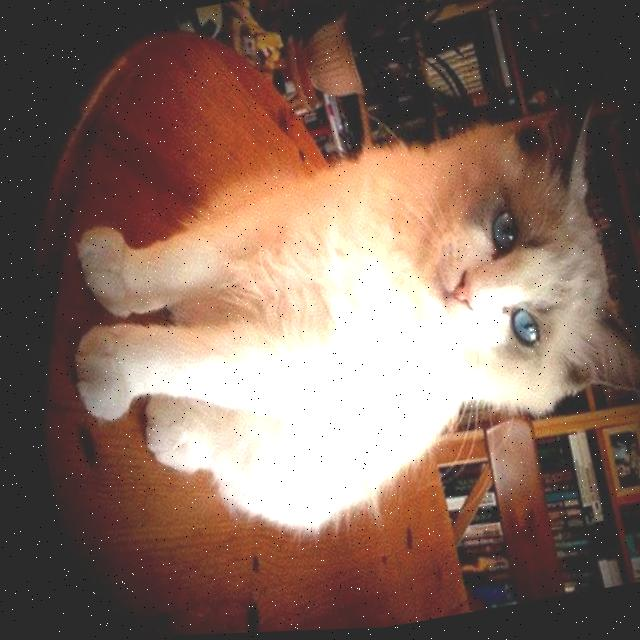Ragdoll: (25, 89, 640, 572)
